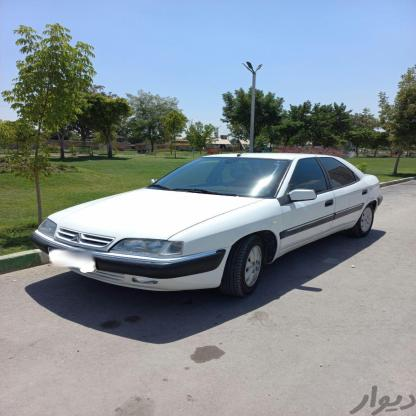Car: (32, 150, 394, 324)
